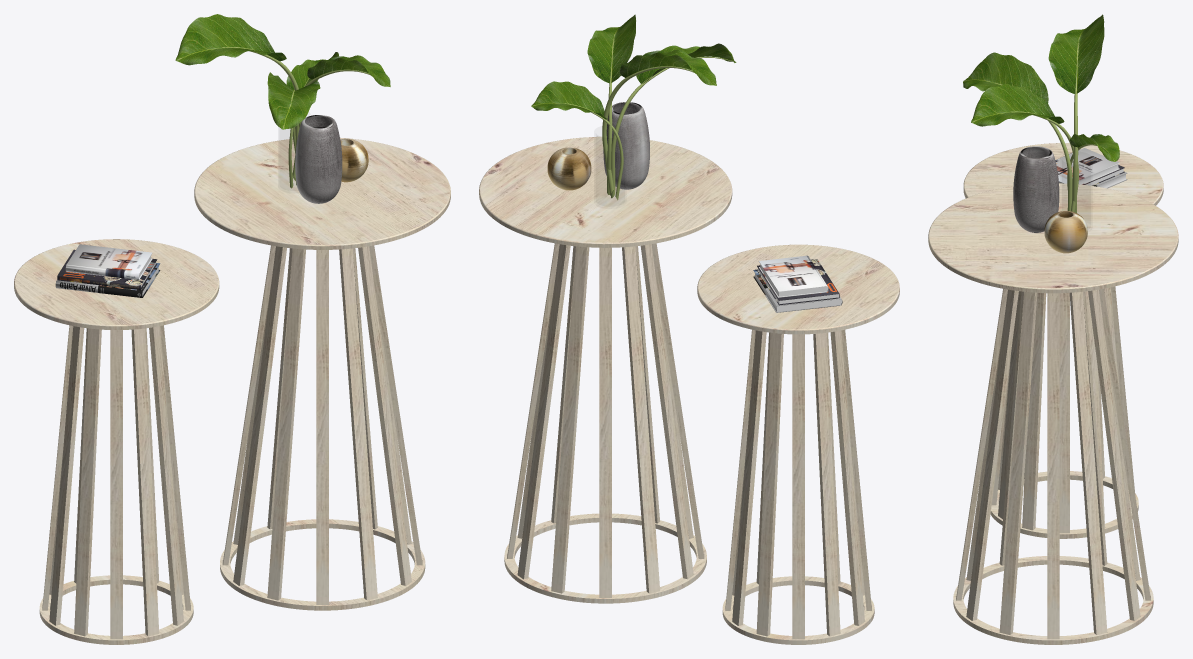
Rendered from decorative_table.glb.
3 views of the same model, side by side, from view 1: azimuth 30°, elevation 25°; view 2: azimuth 150°, elevation 25°; view 3: azimuth 270°, elevation 25° (orthographic). The views are drawn at different scales.
Parts seen in each view (by area): view 1: Material2 (×8); view 2: Material2 (×8); view 3: Material2 (×7).
Part boxes in pixels (left/top/right/bottom): Material2 (×8): left=14, top=14, right=450, bottom=644; Material2 (×8): left=479, top=14, right=899, bottom=644; Material2 (×7): left=928, top=14, right=1178, bottom=644.
Size of what is drawn, in the model's own units: 45.08 by 59.65 by 25.
Materials: 12 (9 with a texture image).
